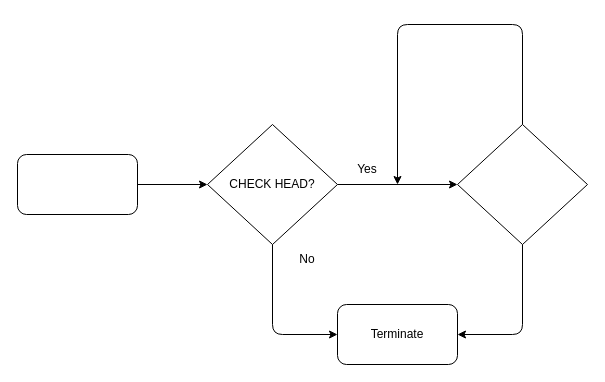
Some shapes in this 605 by 382 pixel diagram are drawn without their labels. Here are the shapes that lost their labels. From the top down, the box of each, then its label:
(16, 154, 138, 214): START
(456, 124, 588, 244): Loop head to tail print(currentNode.value)
